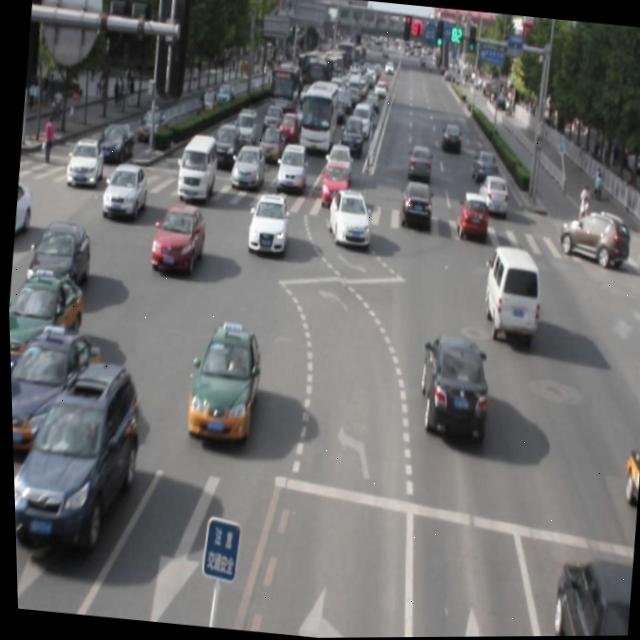car: (8, 348, 145, 553), (7, 320, 100, 458), (178, 320, 261, 446), (413, 331, 491, 441), (546, 554, 631, 637), (148, 198, 207, 274), (242, 190, 289, 255), (323, 187, 372, 247), (396, 179, 433, 230), (453, 190, 489, 238), (617, 442, 640, 512)
truck: (477, 241, 542, 341), (173, 129, 220, 203)
